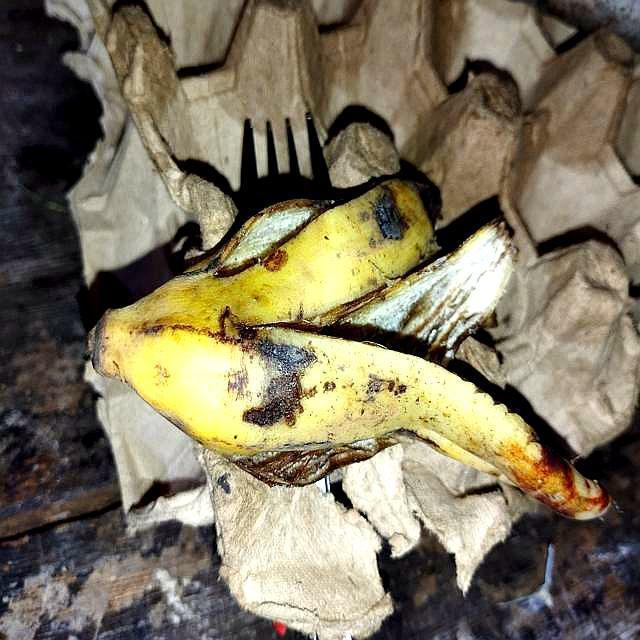Biodegradable: (83, 179, 547, 475)
